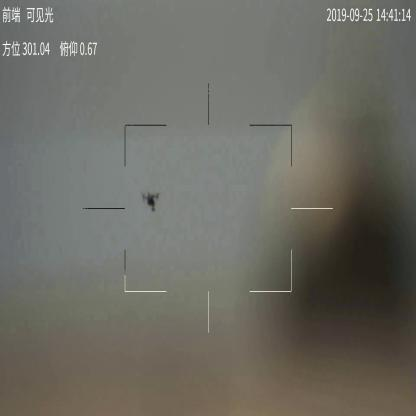uav: (142, 189, 162, 213)
